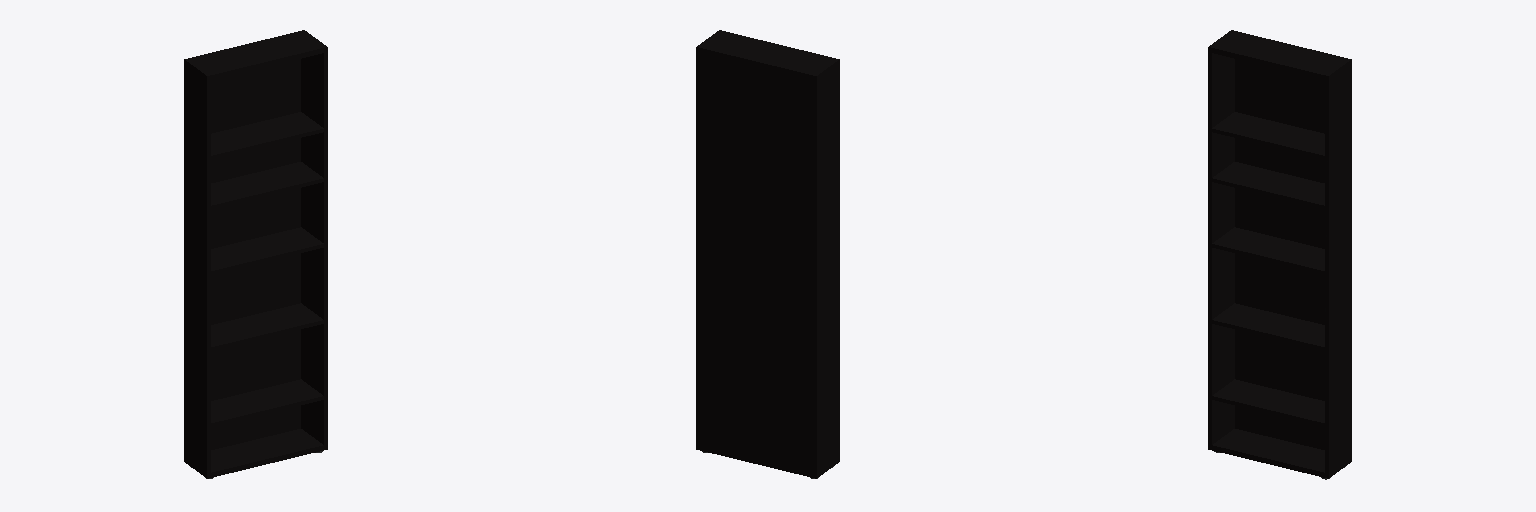
The model's file is besta_bookcase_1_obj0_object.obj.
3 views of the same model, side by side, from view 1: azimuth 30°, elevation 25°; view 2: azimuth 150°, elevation 25°; view 3: azimuth 330°, elevation 25° (orthographic).
Visible parts, largest first — view 1: Mesh3 Model; view 2: Mesh3 Model; view 3: Mesh3 Model.
Boxes of the visible parts, x1,y1,x2,y2 form: Mesh3 Model: [184, 30, 327, 478]; Mesh3 Model: [696, 30, 839, 478]; Mesh3 Model: [1208, 30, 1351, 478].
Size of the model in its own units: 23.62 by 76.18 by 7.88.